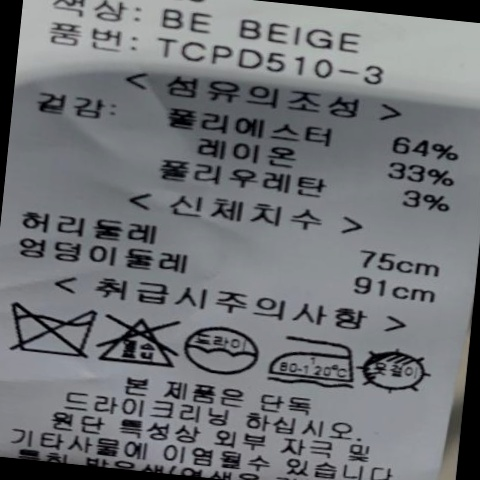DN_wash: (4, 299, 103, 368)
dry_clean: (184, 322, 263, 384)
iron_low: (270, 327, 361, 391)
line_dry_in_shade: (361, 337, 436, 402)
non_chlorine_bleach: (98, 307, 187, 376)
